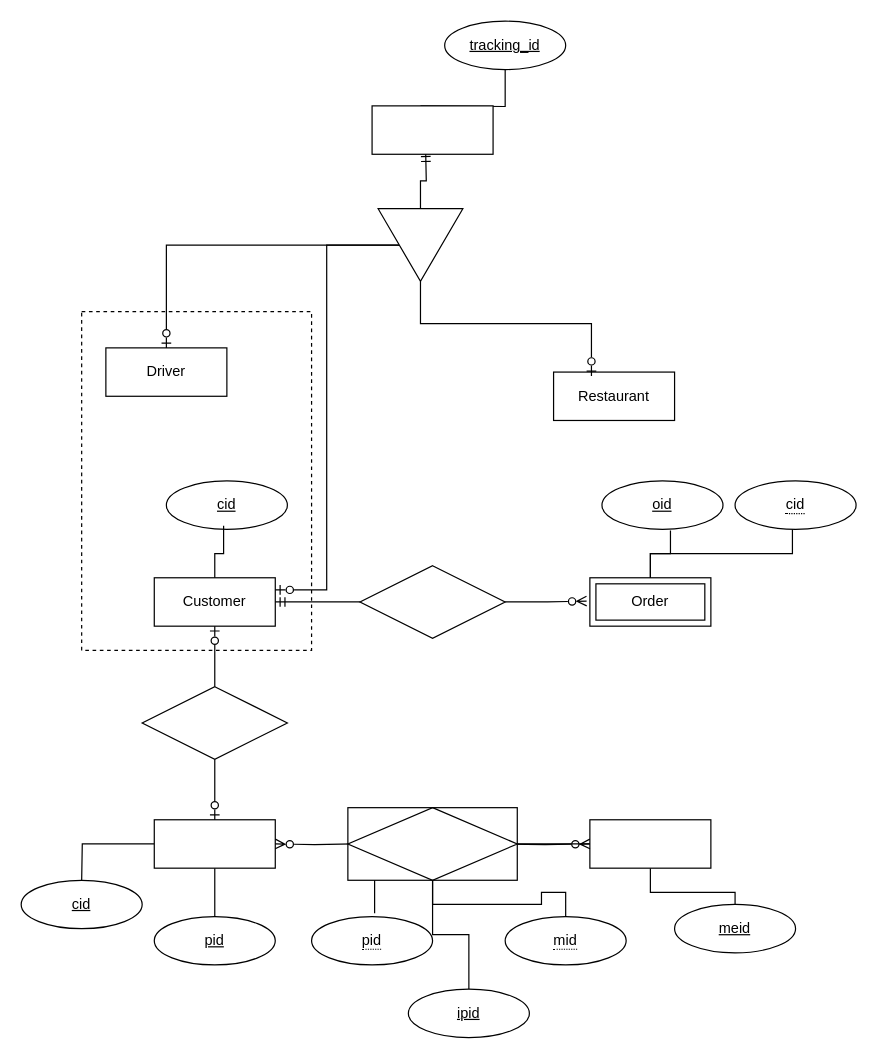
The diagram is 877 pixels wide and 1059 high, and some of its shapes have lost their labels. Here are the shapes that lost their labels. From the top down, the box of each, then its label:
(371, 105, 493, 154): Regular User
(377, 208, 463, 281): ISA
(359, 564, 505, 638): Take
(141, 685, 287, 759): Grant
(153, 819, 275, 868): Promotion
(347, 806, 517, 880): ItemsPromoted
(589, 819, 711, 868): Menu Items
